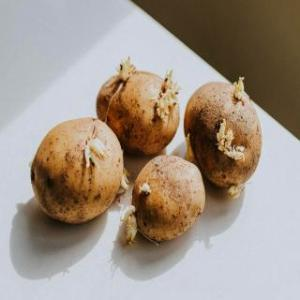potato: (30, 117, 123, 223), (184, 82, 262, 188), (97, 70, 179, 152), (132, 156, 204, 244)
